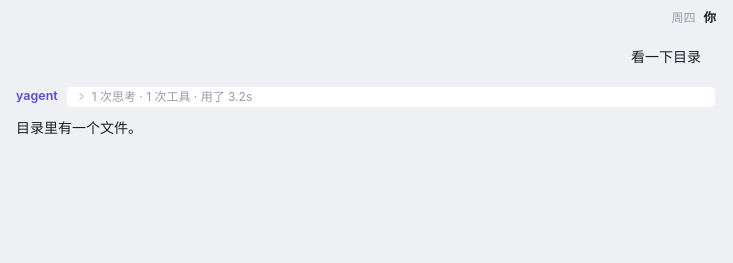
Scenario: chat process › folds a finished turn to the duration and opens the command as a terminal
This screenshot has width=733, height=263.
Click the button "yagent 1 次思考 · 1 次工具 · 用了 3.2s": (366, 97) [16,86,716,108]
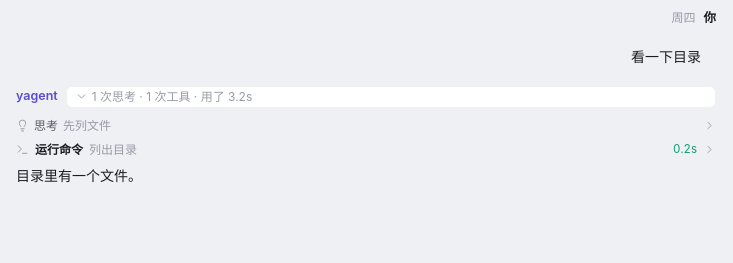
Click the button with class "thought-head": (87, 125) [16,116,716,136]
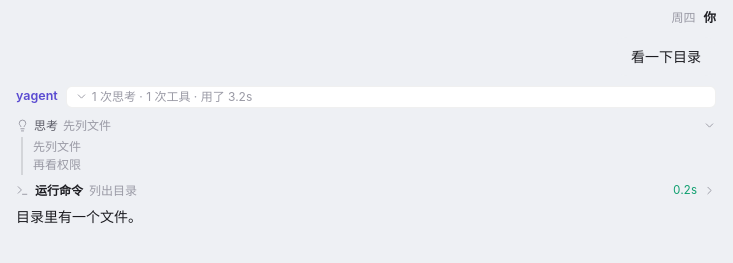
Click the button "运行命令 列出目录 0.2s": (59, 190) [16,179,716,203]
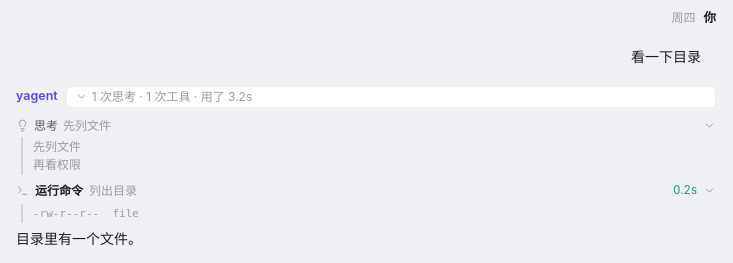
Check: the text "-rw-r--r-- file" is shown, box [33,207,139,220]
